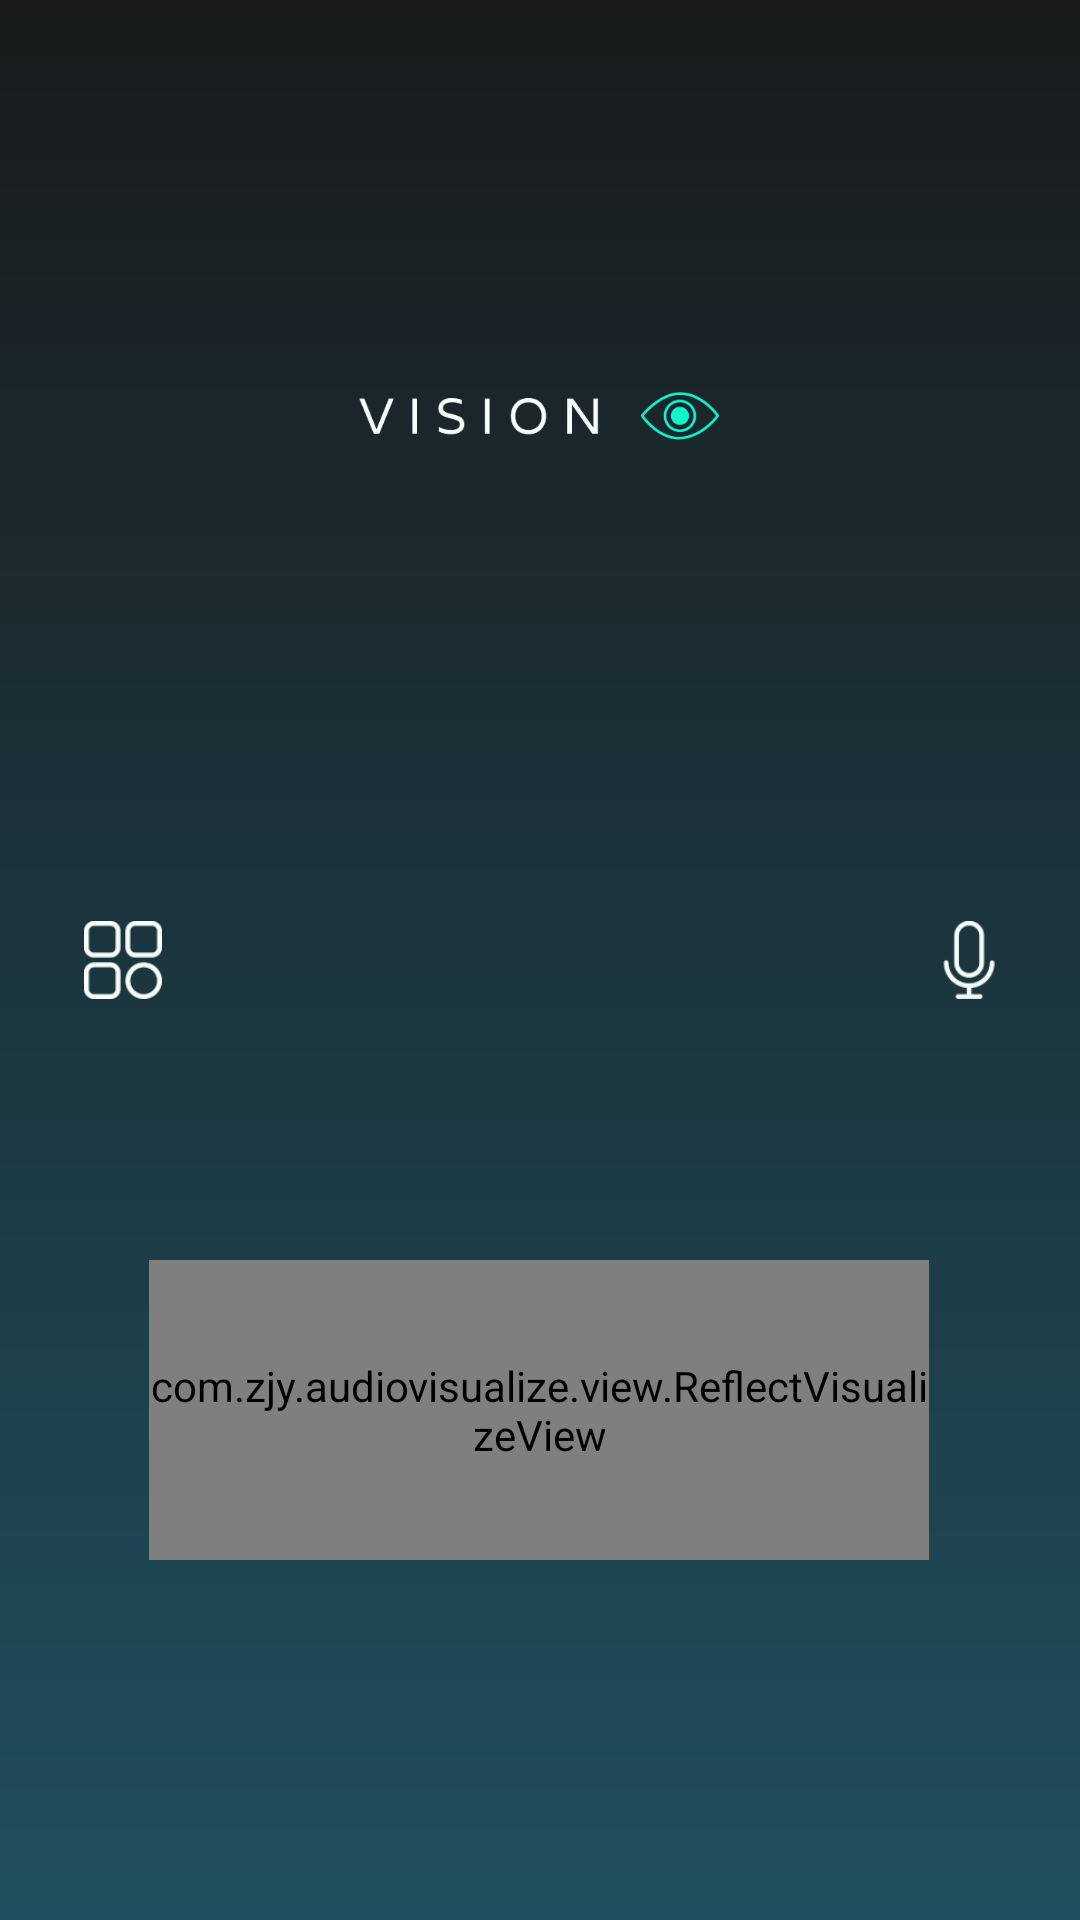

Locate icon controls on the screen. Image size 1080 × 1920, boxes as {"left": x1, "top": y1, "right": x2, "bottom": y2}.
audio microphone: {"left": 943, "top": 921, "right": 995, "bottom": 999}
feature: {"left": 84, "top": 921, "right": 162, "bottom": 999}
